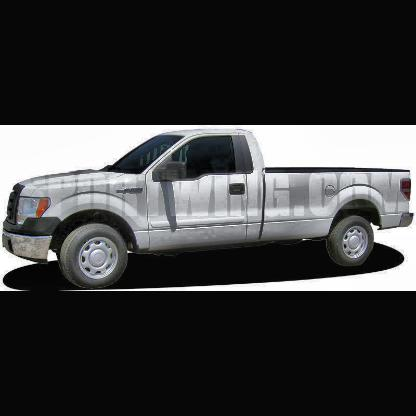Ford F-150 Regular Cab 2012: (2, 127, 416, 291)
